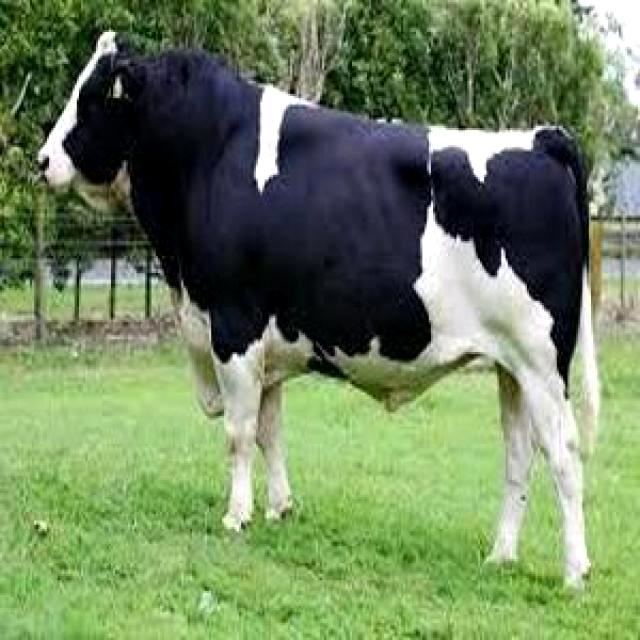COW: (39, 34, 590, 584)
